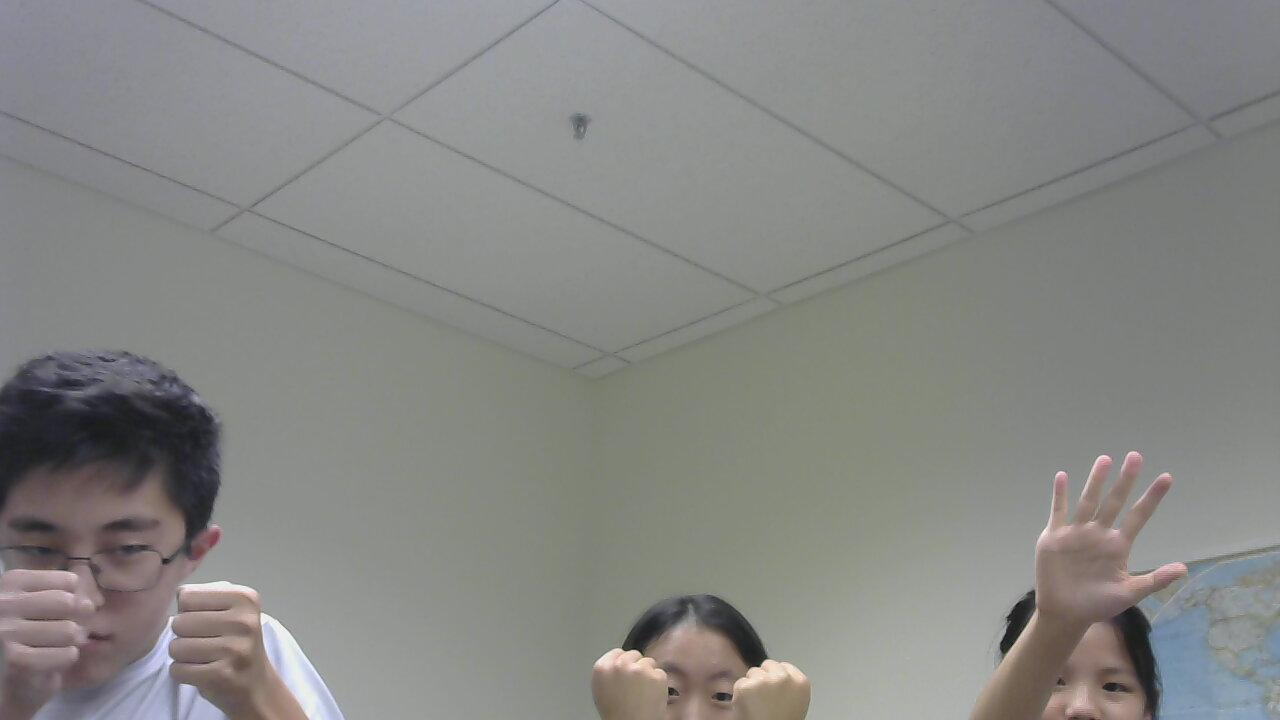fist: (0, 549, 122, 720), (169, 574, 288, 708), (581, 627, 680, 720), (726, 659, 822, 720)
